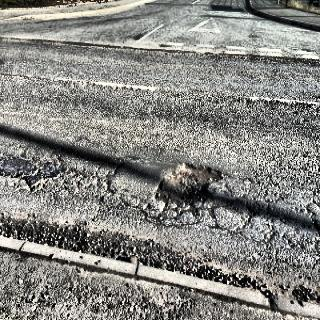alligator-crack: (7, 148, 318, 246)
pothole: (155, 152, 224, 210)
